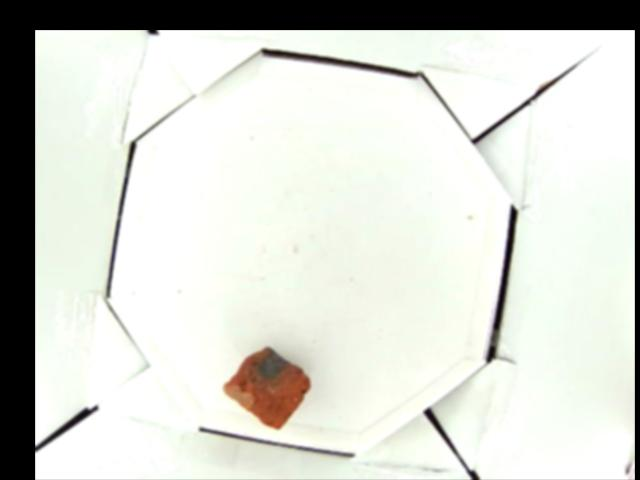Brisk: (221, 344, 312, 430)
